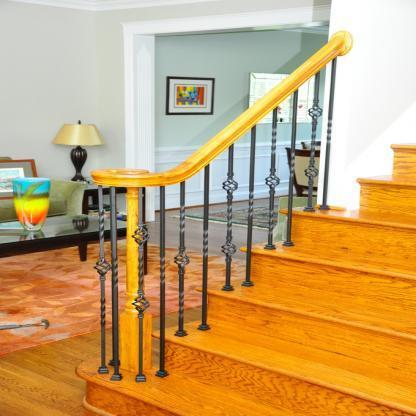stair: (137, 140, 416, 416)
